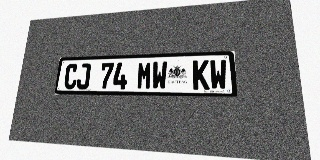4: (112, 62, 128, 89)
7: (99, 63, 114, 89)
C: (63, 64, 78, 89)
J: (76, 63, 91, 89)
K: (193, 60, 210, 90)
M: (137, 62, 152, 89)
W: (209, 59, 228, 90), (152, 61, 167, 90)
